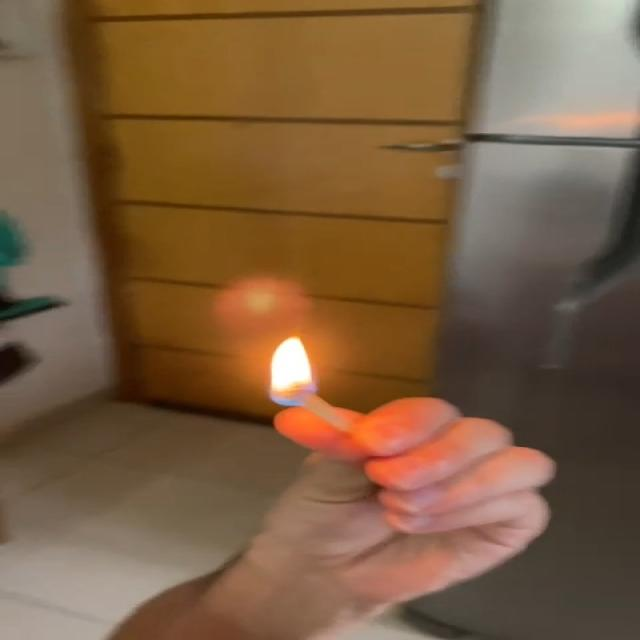fogo-ypXI: (267, 334, 317, 406)
